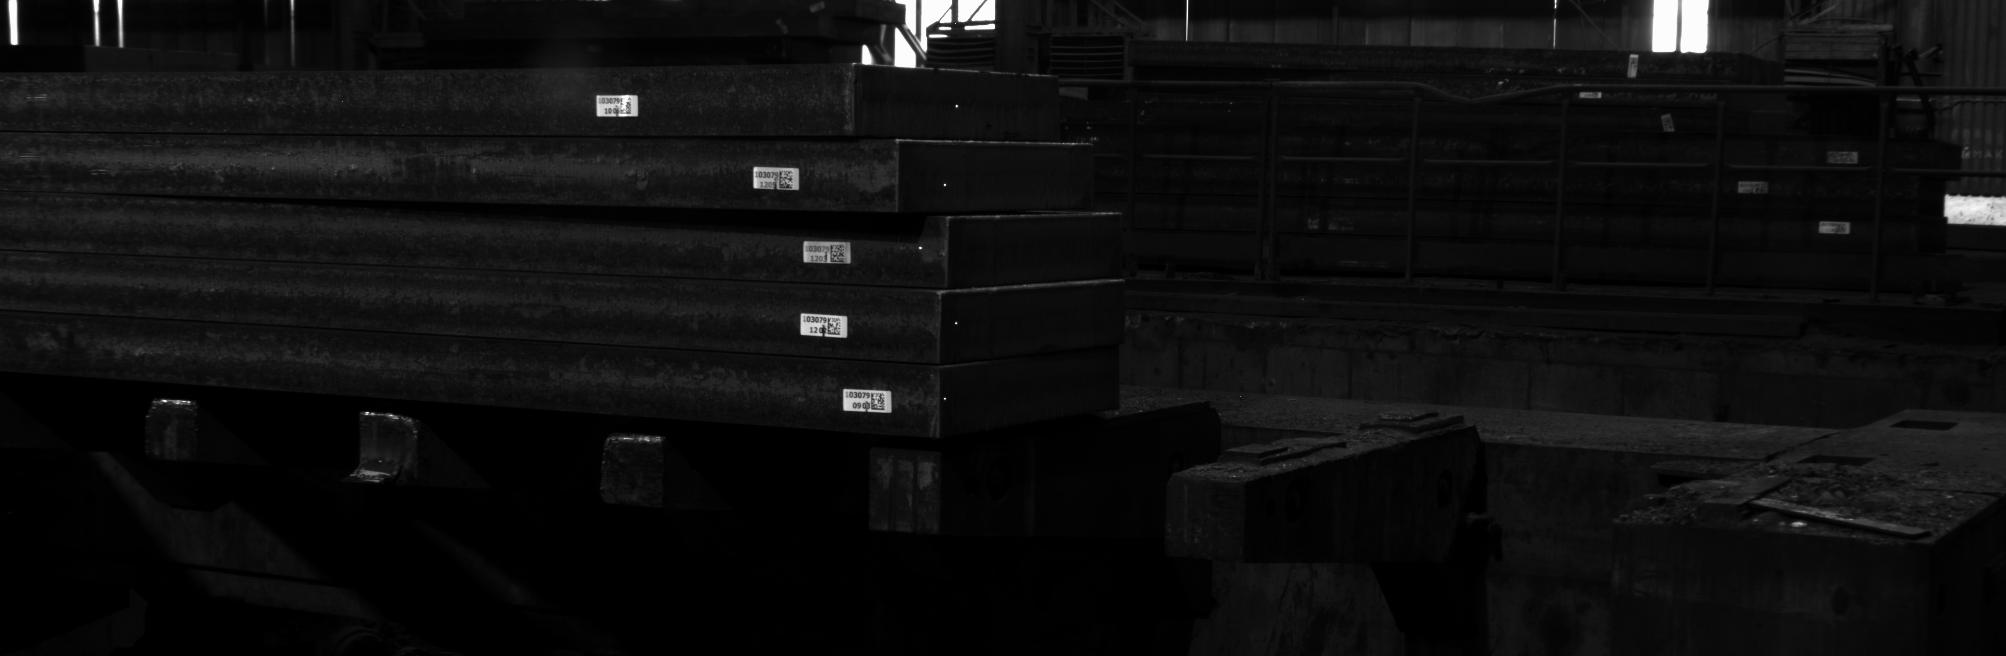data matrix: (826, 318, 843, 336), (779, 171, 794, 191), (871, 393, 887, 412), (830, 246, 846, 263), (620, 97, 635, 115)
